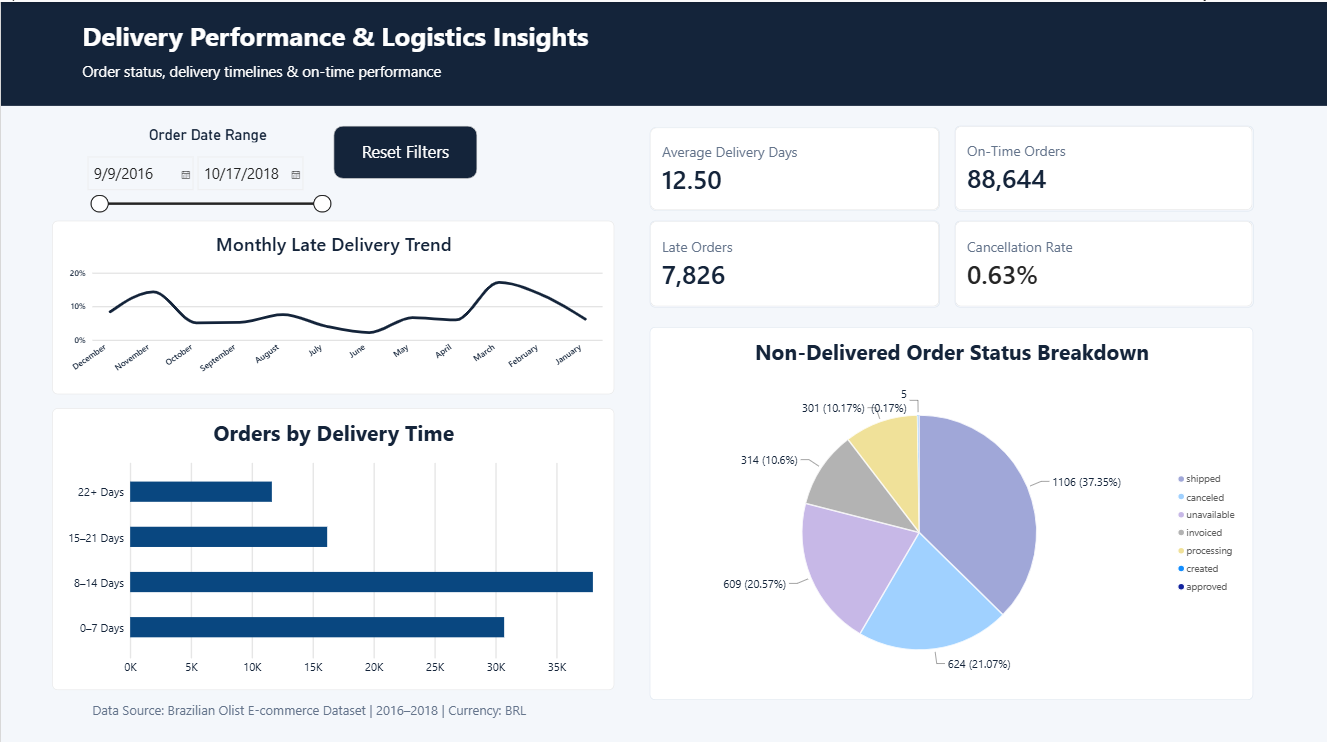

The page's visual inventory and layout, read from the dashboard file:
{"tool":"powerbi","page":{"name":"Delivery Perfomance","canvas":[1920,1080],"ordinal":1},"visuals":[{"type":"pieChart","title":"Non-Delivered Order Status Breakdown","fields":{"Category":["olist_orders_dataset.order_status"],"Y":["Count(olist_orders_dataset.order_id)"]},"box":[939.6,469.8,873.7,539.9],"z":0},{"type":"shape","box":[0,0,1920.4,150.7],"z":1000},{"type":"cardVisual","fields":{"Data":["olist_orders_dataset.Average Delivery Days"]},"box":[939.6,181.3,420.3,121.6],"z":2000},{"type":"cardVisual","fields":{"Data":["olist_orders_dataset.On-Time Orders"]},"box":[1380.6,179.3,432.7,123.6],"z":3000},{"type":"cardVisual","fields":{"Data":["olist_orders_dataset.Late Orders"]},"box":[939.6,317.3,420.3,125.7],"z":4000},{"type":"textbox","box":[117.6,23.9,746.1,51.5],"z":6000},{"type":"textbox","box":[117.6,84.5,645,45.9],"z":7000},{"type":"textbox","box":[132.1,1011.6,745.6,54.3],"z":8000},{"type":"clusteredBarChart","title":"Orders by Delivery Time","fields":{"Category":["olist_orders_dataset.Delivery Time Group"],"Y":["Count(olist_orders_dataset.order_id)"]},"box":[74.2,587.3,813.9,408],"z":10000},{"type":"actionButton","box":[482.2,179.3,208.2,76.7],"z":11000},{"type":"slicer","title":"Order Date Range","fields":{"Values":["olist_orders_dataset.order_purchase_timestamp"]},"box":[117.5,179.3,363.7,137.5],"z":12000},{"type":"cardVisual","fields":{"Data":["olist_orders_dataset.Cancellation Rate"]},"box":[1380.6,317.3,432.7,125.7],"z":12001},{"type":"lineChart","title":"Monthly Late Delivery Trend","fields":{"Category":["olist_orders_dataset.order_purchase_timestamp.Variation.Date Hierarchy.Month"],"Y":["olist_orders_dataset.Monthly Late Delivery percentage"]},"box":[74.2,317.3,813.9,251.4],"z":12002}]}

Visuals, with their boxes in screenshot pixels (x1, y1, x2, y2), scaled from the page's 1920x1080 canvas onto the 1327x742 screenshot:
"Non-Delivered Order Status Breakdown" pieChart: 649, 323, 1253, 694
shape: 0, 0, 1326, 104
cardVisual - olist_orders_dataset.Average Delivery Days: 649, 125, 940, 208
cardVisual - olist_orders_dataset.On-Time Orders: 954, 123, 1253, 208
cardVisual - olist_orders_dataset.Late Orders: 649, 218, 940, 304
textbox: 81, 16, 597, 52
textbox: 81, 58, 527, 90
textbox: 91, 695, 607, 732
"Orders by Delivery Time" clusteredBarChart: 51, 403, 614, 684
actionButton: 333, 123, 477, 176
"Order Date Range" slicer: 81, 123, 333, 218
cardVisual - olist_orders_dataset.Cancellation Rate: 954, 218, 1253, 304
"Monthly Late Delivery Trend" lineChart: 51, 218, 614, 391
